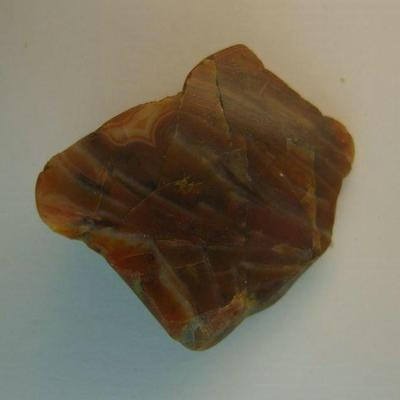mineralogy: (36, 45, 354, 350)
